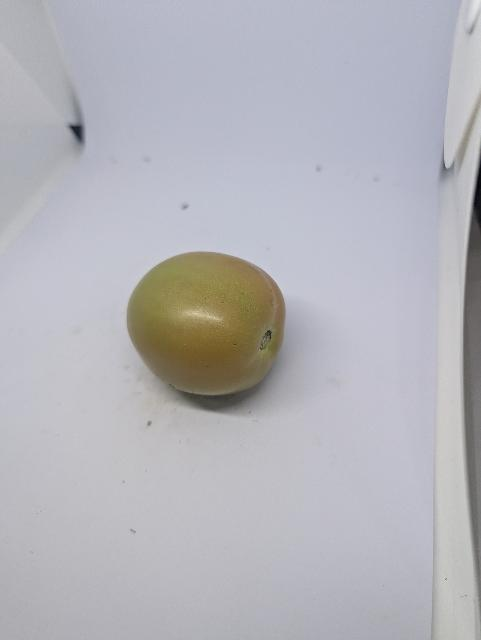breaker: (127, 252, 286, 395)
